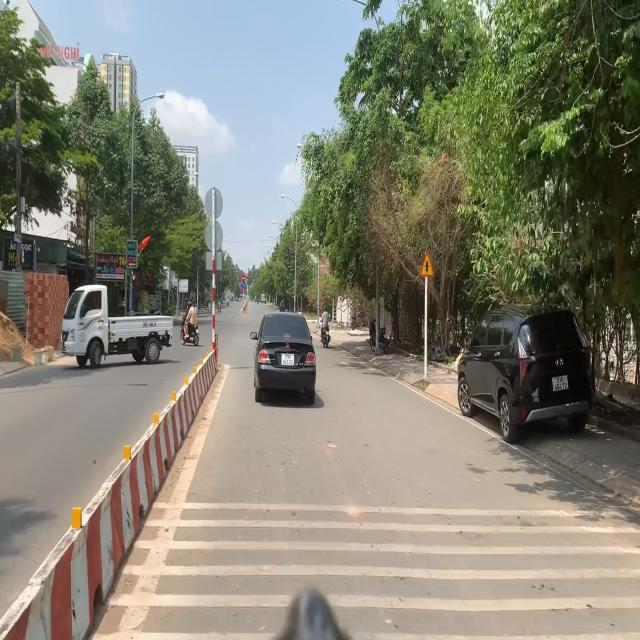Giao voi duong khong uu tien: (419, 250, 435, 277)
